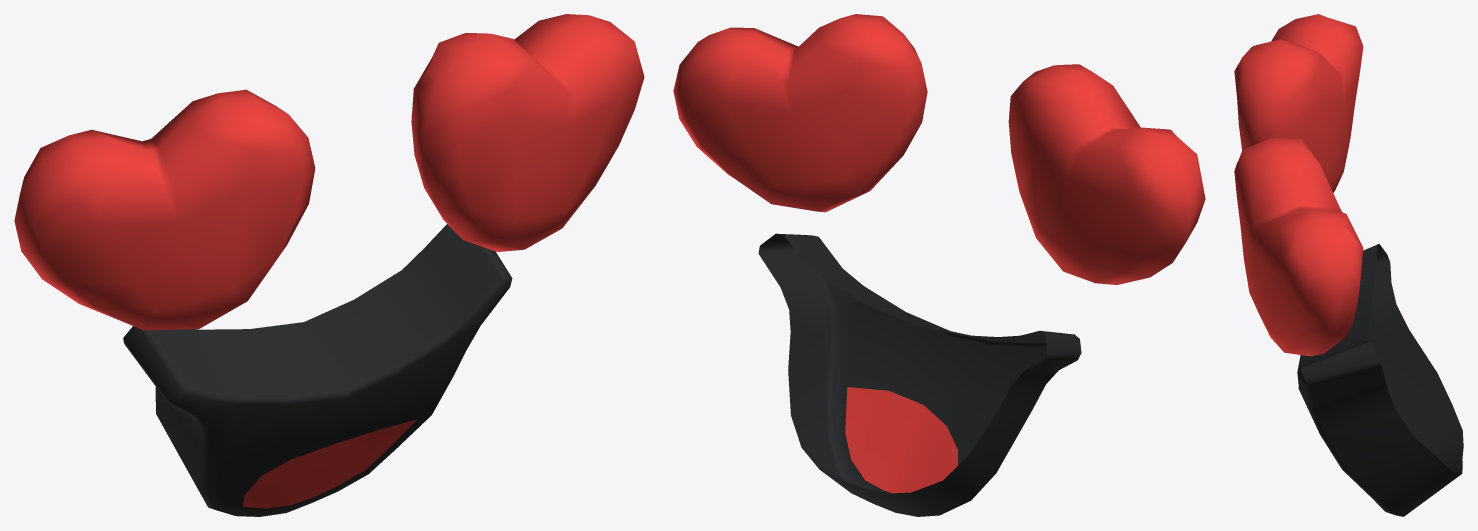
File: Female_Emotion_Love_01.glb
3 renders of one model, left to right at view 1: azimuth 30°, elevation 25°; view 2: azimuth 150°, elevation 25°; view 3: azimuth 270°, elevation 25°, orthographic. The views are drawn at different scales.
Parts seen in each view (by area): view 1: Female_Emotion_Love_01; view 2: Female_Emotion_Love_01; view 3: Female_Emotion_Love_01.
Boxes of the visible parts, bbox=[...] form: Female_Emotion_Love_01: bbox=[14, 14, 644, 516]; Female_Emotion_Love_01: bbox=[673, 14, 1205, 516]; Female_Emotion_Love_01: bbox=[1234, 14, 1463, 516].
Size of the model in its own units: 0.3022 by 0.2355 by 0.1195.
1 material, 1 textured.
